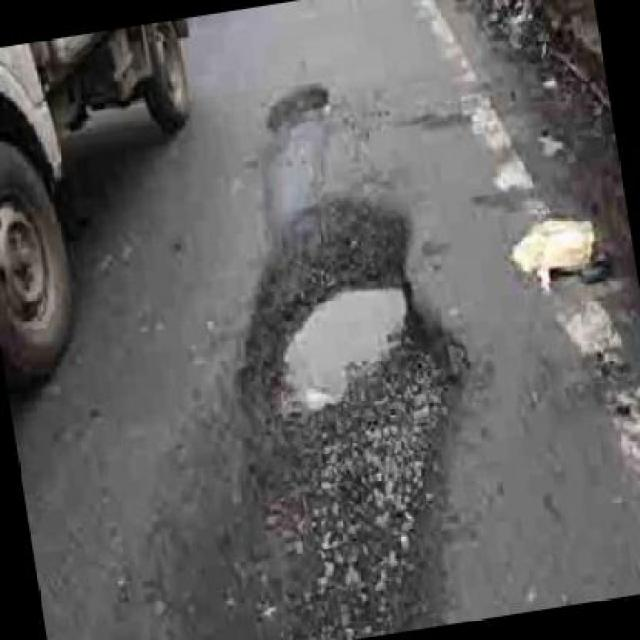pothole1: (207, 176, 502, 638), (260, 75, 334, 132)
